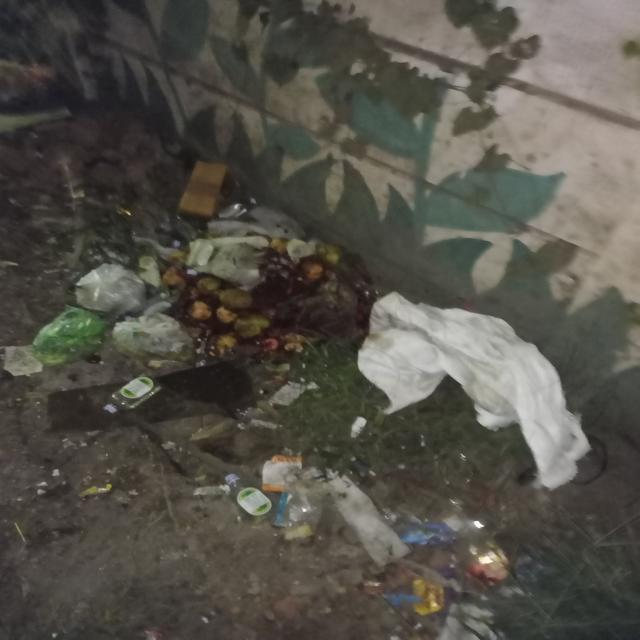garbage: (44, 150, 636, 636)
